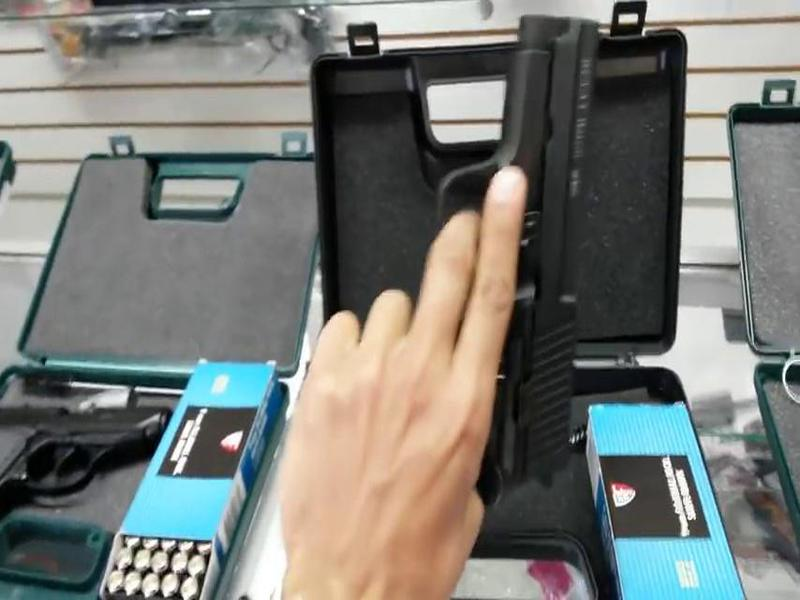Pistola: (343, 1, 629, 541)
